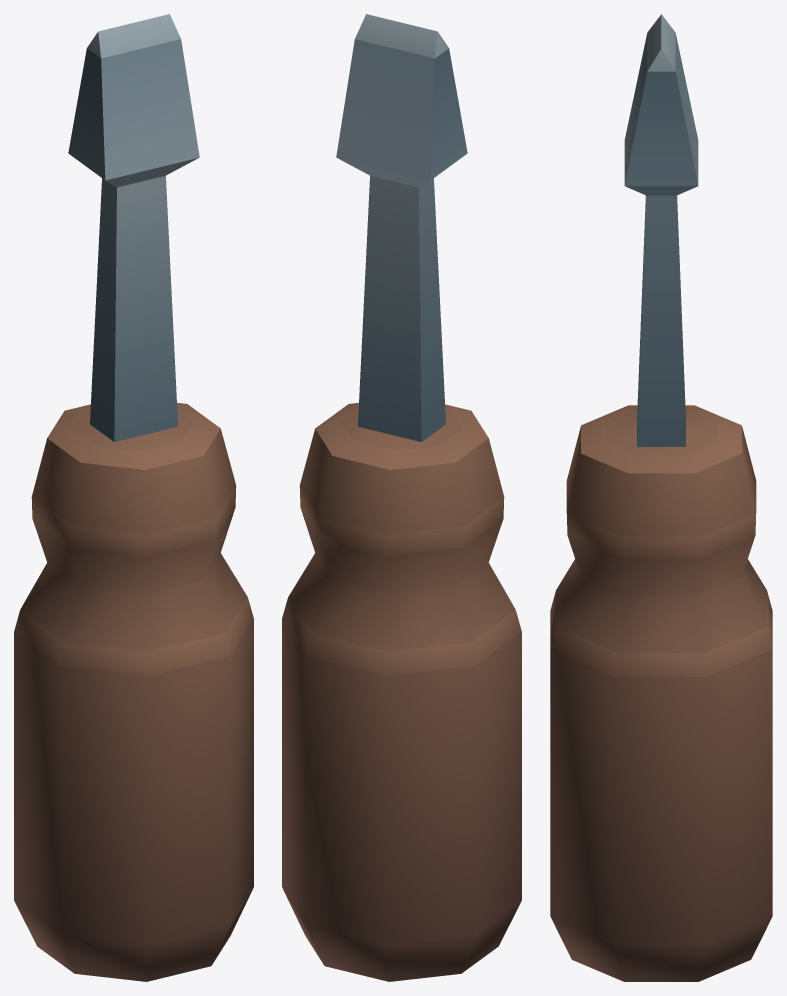
Rendered from screwdriver_a_short.glb.
3 renders of one model, left to right at view 1: azimuth 30°, elevation 25°; view 2: azimuth 150°, elevation 25°; view 3: azimuth 270°, elevation 25°, orthographic.
Parts seen in each view (by area): view 1: screwdriver_A_short; view 2: screwdriver_A_short; view 3: screwdriver_A_short.
Boxes of the visible parts, x1,y1,x2,y2 form: screwdriver_A_short: [14, 14, 253, 981]; screwdriver_A_short: [282, 14, 521, 981]; screwdriver_A_short: [550, 14, 772, 981].
Size of the model in its own units: 0.0908 by 0.422 by 0.0908.
1 material, 1 textured.
